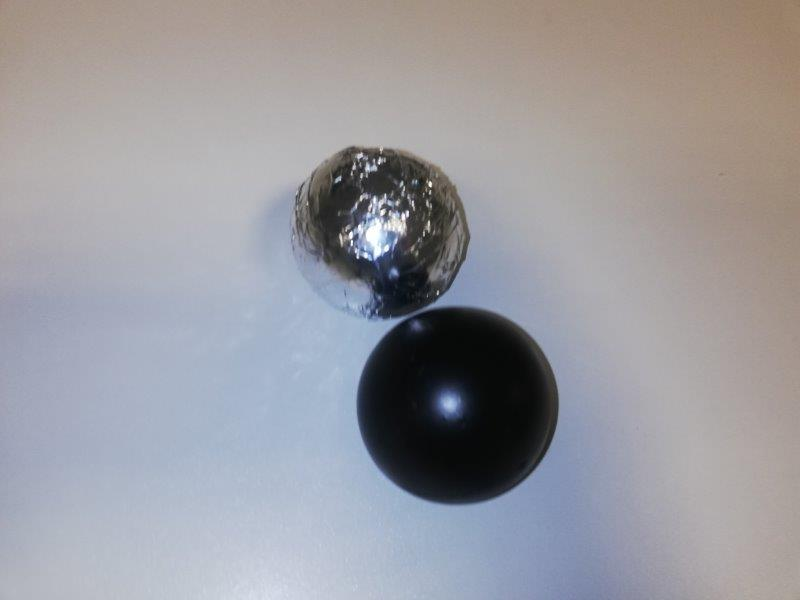bianca: (293, 143, 466, 317)
nera: (354, 308, 556, 503)
